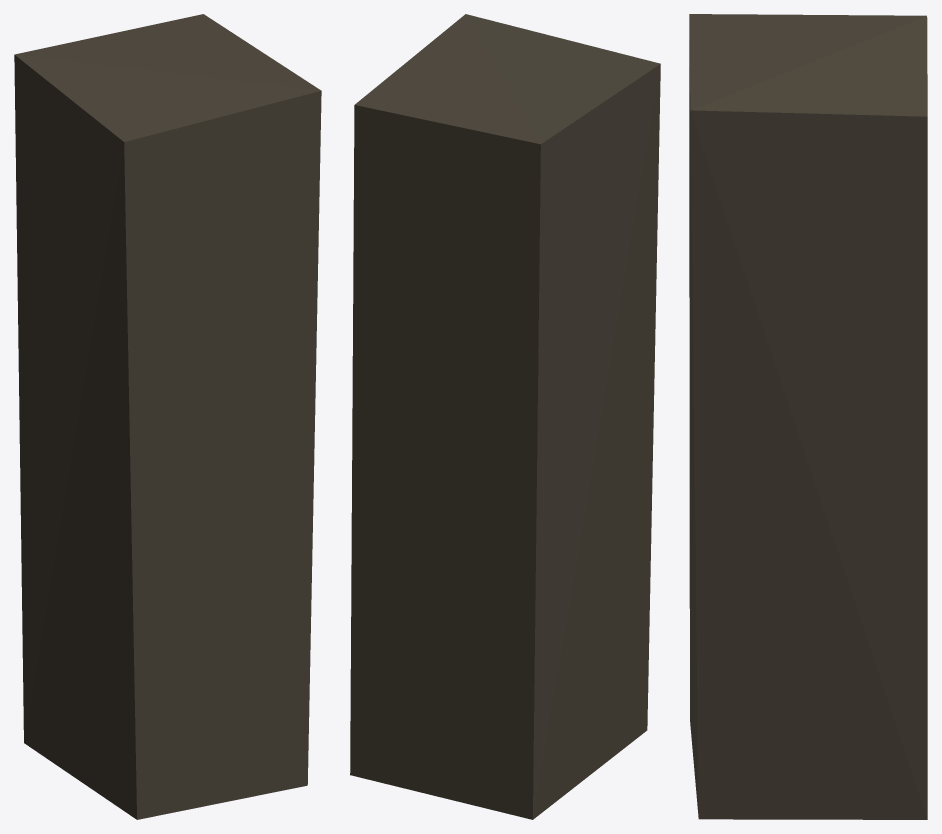
Rendered from Pillar_3_LOD.fbx.
3 renders of one model, left to right at view 1: azimuth 30°, elevation 25°; view 2: azimuth 150°, elevation 25°; view 3: azimuth 270°, elevation 25°, orthographic. The views are drawn at different scales.
Parts seen in each view (by area): view 1: Group65520; view 2: Group65520; view 3: Group65520.
Part boxes in pixels (left/top/right/bottom): Group65520: left=14, top=14, right=321, bottom=819; Group65520: left=350, top=14, right=660, bottom=819; Group65520: left=689, top=14, right=927, bottom=819.
Bounding box in the file's own units: 1.25 × 4.16 × 1.26.
